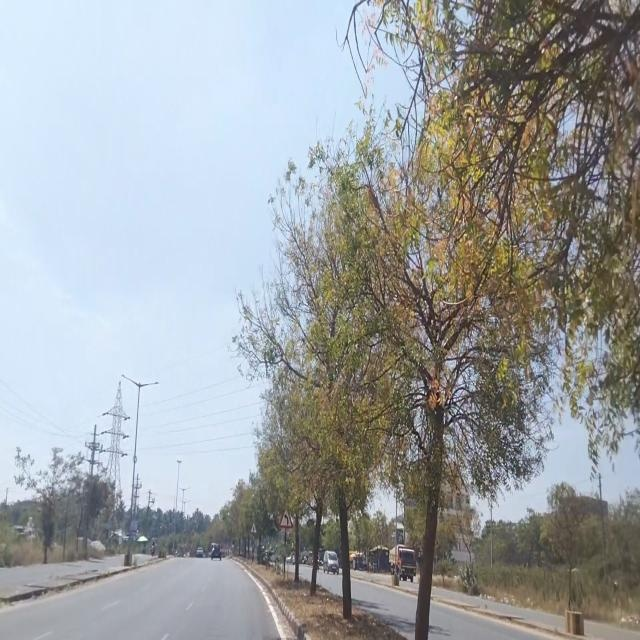bien_nguy_hiem: (278, 504, 294, 528), (250, 522, 257, 534)
